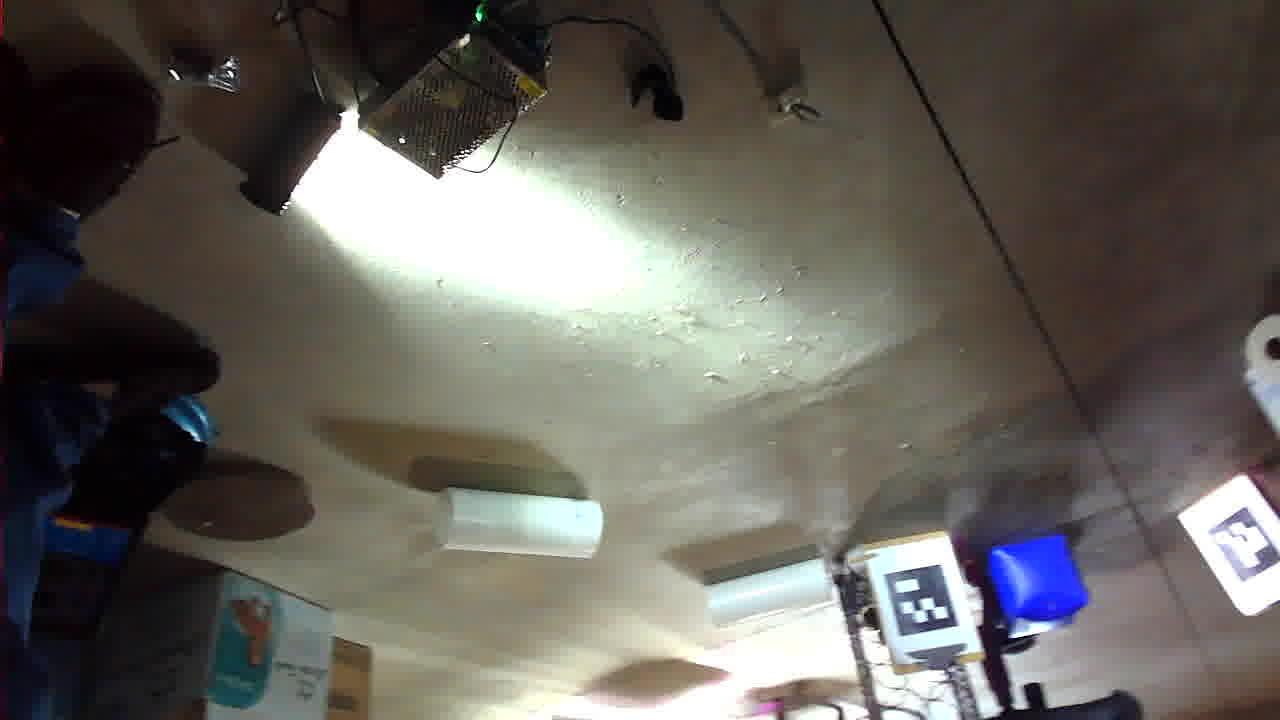coral: (676, 161, 844, 231), (450, 97, 579, 158)
